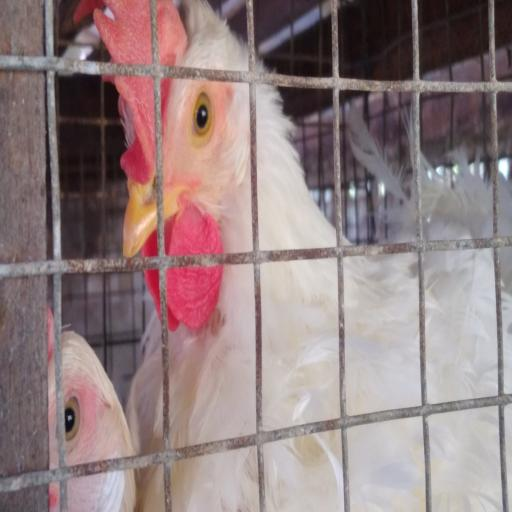healthy: (90, 0, 269, 327)
